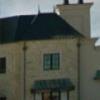chimneys: (54, 0, 94, 38)
